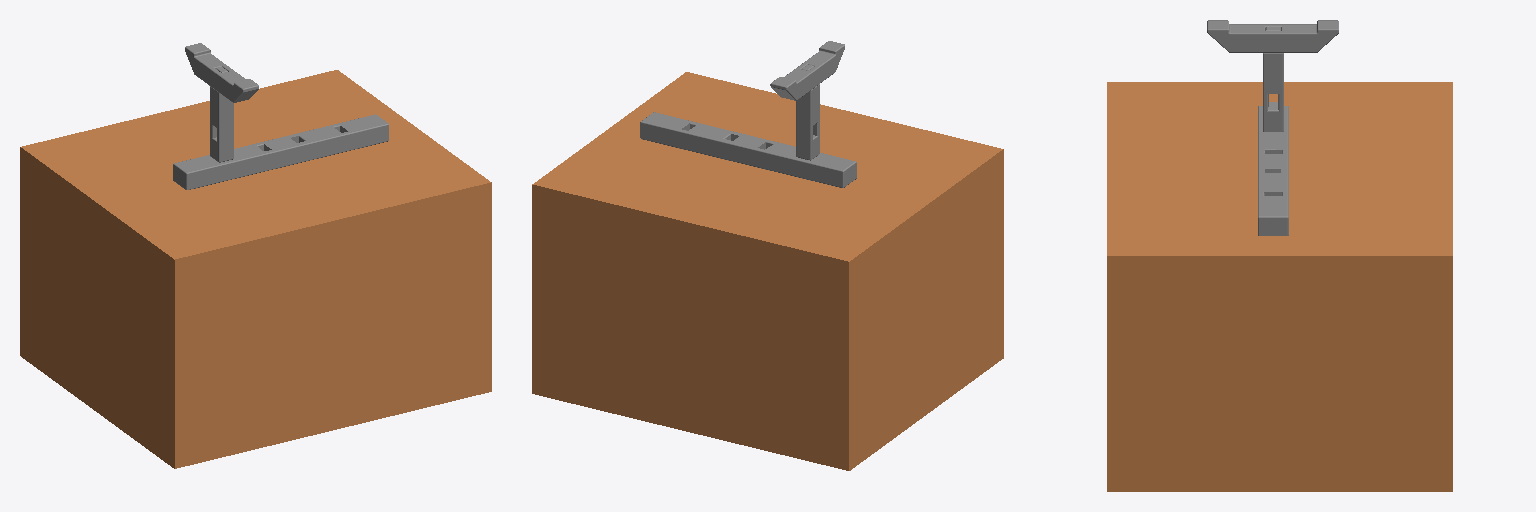
URDF robot description (table_beam_2x_3_scene_0016):
<?xml version="1.0"?>
<robot name="table_beam_2x_3_scene_0016">
  <link name="box">
    <visual>
      <material name="wood"><color rgba="0.82 0.56 0.35 1.0"/></material>
      <origin xyz="0 0 0"/>
      <geometry><box size="0.475 0.4 0.3"/></geometry>
    </visual>
    <collision>
      <origin xyz="0 0 0"/>
      <geometry><box size="0.475 0.4 0.3"/></geometry>
    </collision>
    <inertial>
      <mass value="500"/>
      <friction value="1.0"/>
      <inertia ixx="1000.0" ixy="0.0" ixz="0.0" iyy="1000.0" iyz="0.0" izz="1000.0"/>
    </inertial>
  </link>
  <link name="part_6_hull_0">
    <visual>
      <origin xyz="0 0 0" rpy="0 0 0"/>
      <geometry><mesh filename="../../6/coacd/decomp_0.obj" scale="1 1 1"/></geometry>
      <material name="placed_0"><color rgba="0.6 0.6 0.6 1.0"/></material>
    </visual>
    <collision>
      <origin xyz="0 0 0" rpy="0 0 0"/>
      <geometry><mesh filename="../../6/coacd/decomp_0.obj" scale="1 1 1"/></geometry>
    </collision>
  </link>
  <joint name="part_6_hull_0_joint" type="fixed">
    <parent link="box"/>
    <child link="part_6_hull_0"/>
    <origin xyz="0.033547 -0.007690 0.162666" rpy="0.000000 0.000000 0.000000"/>
  </joint>
  <link name="part_6_hull_1">
    <visual>
      <origin xyz="0 0 0" rpy="0 0 0"/>
      <geometry><mesh filename="../../6/coacd/decomp_1.obj" scale="1 1 1"/></geometry>
      <material name="placed_1"><color rgba="0.6 0.6 0.6 1.0"/></material>
    </visual>
    <collision>
      <origin xyz="0 0 0" rpy="0 0 0"/>
      <geometry><mesh filename="../../6/coacd/decomp_1.obj" scale="1 1 1"/></geometry>
    </collision>
  </link>
  <joint name="part_6_hull_1_joint" type="fixed">
    <parent link="box"/>
    <child link="part_6_hull_1"/>
    <origin xyz="0.033547 -0.007690 0.162666" rpy="0.000000 0.000000 0.000000"/>
  </joint>
  <link name="part_6_hull_2">
    <visual>
      <origin xyz="0 0 0" rpy="0 0 0"/>
      <geometry><mesh filename="../../6/coacd/decomp_10.obj" scale="1 1 1"/></geometry>
      <material name="placed_2"><color rgba="0.6 0.6 0.6 1.0"/></material>
    </visual>
    <collision>
      <origin xyz="0 0 0" rpy="0 0 0"/>
      <geometry><mesh filename="../../6/coacd/decomp_10.obj" scale="1 1 1"/></geometry>
    </collision>
  </link>
  <joint name="part_6_hull_2_joint" type="fixed">
    <parent link="box"/>
    <child link="part_6_hull_2"/>
    <origin xyz="0.033547 -0.007690 0.162666" rpy="0.000000 0.000000 0.000000"/>
  </joint>
  <link name="part_6_hull_3">
    <visual>
      <origin xyz="0 0 0" rpy="0 0 0"/>
      <geometry><mesh filename="../../6/coacd/decomp_11.obj" scale="1 1 1"/></geometry>
      <material name="placed_3"><color rgba="0.6 0.6 0.6 1.0"/></material>
    </visual>
    <collision>
      <origin xyz="0 0 0" rpy="0 0 0"/>
      <geometry><mesh filename="../../6/coacd/decomp_11.obj" scale="1 1 1"/></geometry>
    </collision>
  </link>
  <joint name="part_6_hull_3_joint" type="fixed">
    <parent link="box"/>
    <child link="part_6_hull_3"/>
    <origin xyz="0.033547 -0.007690 0.162666" rpy="0.000000 0.000000 0.000000"/>
  </joint>
  <link name="part_6_hull_4">
    <visual>
      <origin xyz="0 0 0" rpy="0 0 0"/>
      <geometry><mesh filename="../../6/coacd/decomp_12.obj" scale="1 1 1"/></geometry>
      <material name="placed_4"><color rgba="0.6 0.6 0.6 1.0"/></material>
    </visual>
    <collision>
      <origin xyz="0 0 0" rpy="0 0 0"/>
      <geometry><mesh filename="../../6/coacd/decomp_12.obj" scale="1 1 1"/></geometry>
    </collision>
  </link>
  <joint name="part_6_hull_4_joint" type="fixed">
    <parent link="box"/>
    <child link="part_6_hull_4"/>
    <origin xyz="0.033547 -0.007690 0.162666" rpy="0.000000 0.000000 0.000000"/>
  </joint>
  <link name="part_6_hull_5">
    <visual>
      <origin xyz="0 0 0" rpy="0 0 0"/>
      <geometry><mesh filename="../../6/coacd/decomp_13.obj" scale="1 1 1"/></geometry>
      <material name="placed_5"><color rgba="0.6 0.6 0.6 1.0"/></material>
    </visual>
    <collision>
      <origin xyz="0 0 0" rpy="0 0 0"/>
      <geometry><mesh filename="../../6/coacd/decomp_13.obj" scale="1 1 1"/></geometry>
    </collision>
  </link>
  <joint name="part_6_hull_5_joint" type="fixed">
    <parent link="box"/>
    <child link="part_6_hull_5"/>
    <origin xyz="0.033547 -0.007690 0.162666" rpy="0.000000 0.000000 0.000000"/>
  </joint>
  <link name="part_6_hull_6">
    <visual>
      <origin xyz="0 0 0" rpy="0 0 0"/>
      <geometry><mesh filename="../../6/coacd/decomp_2.obj" scale="1 1 1"/></geometry>
      <material name="placed_6"><color rgba="0.6 0.6 0.6 1.0"/></material>
    </visual>
    <collision>
      <origin xyz="0 0 0" rpy="0 0 0"/>
      <geometry><mesh filename="../../6/coacd/decomp_2.obj" scale="1 1 1"/></geometry>
    </collision>
  </link>
  <joint name="part_6_hull_6_joint" type="fixed">
    <parent link="box"/>
    <child link="part_6_hull_6"/>
    <origin xyz="0.033547 -0.007690 0.162666" rpy="0.000000 0.000000 0.000000"/>
  </joint>
  <link name="part_6_hull_7">
    <visual>
      <origin xyz="0 0 0" rpy="0 0 0"/>
      <geometry><mesh filename="../../6/coacd/decomp_3.obj" scale="1 1 1"/></geometry>
      <material name="placed_7"><color rgba="0.6 0.6 0.6 1.0"/></material>
    </visual>
    <collision>
      <origin xyz="0 0 0" rpy="0 0 0"/>
      <geometry><mesh filename="../../6/coacd/decomp_3.obj" scale="1 1 1"/></geometry>
    </collision>
  </link>
  <joint name="part_6_hull_7_joint" type="fixed">
    <parent link="box"/>
    <child link="part_6_hull_7"/>
    <origin xyz="0.033547 -0.007690 0.162666" rpy="0.000000 0.000000 0.000000"/>
  </joint>
  <link name="part_6_hull_8">
    <visual>
      <origin xyz="0 0 0" rpy="0 0 0"/>
      <geometry><mesh filename="../../6/coacd/decomp_4.obj" scale="1 1 1"/></geometry>
      <material name="placed_8"><color rgba="0.6 0.6 0.6 1.0"/></material>
    </visual>
    <collision>
      <origin xyz="0 0 0" rpy="0 0 0"/>
      <geometry><mesh filename="../../6/coacd/decomp_4.obj" scale="1 1 1"/></geometry>
    </collision>
  </link>
  <joint name="part_6_hull_8_joint" type="fixed">
    <parent link="box"/>
    <child link="part_6_hull_8"/>
    <origin xyz="0.033547 -0.007690 0.162666" rpy="0.000000 0.000000 0.000000"/>
  </joint>
  <link name="part_6_hull_9">
    <visual>
      <origin xyz="0 0 0" rpy="0 0 0"/>
      <geometry><mesh filename="../../6/coacd/decomp_5.obj" scale="1 1 1"/></geometry>
      <material name="placed_9"><color rgba="0.6 0.6 0.6 1.0"/></material>
    </visual>
    <collision>
      <origin xyz="0 0 0" rpy="0 0 0"/>
      <geometry><mesh filename="../../6/coacd/decomp_5.obj" scale="1 1 1"/></geometry>
    </collision>
  </link>
  <joint name="part_6_hull_9_joint" type="fixed">
    <parent link="box"/>
    <child link="part_6_hull_9"/>
    <origin xyz="0.033547 -0.007690 0.162666" rpy="0.000000 0.000000 0.000000"/>
  </joint>
  <link name="part_6_hull_10">
    <visual>
      <origin xyz="0 0 0" rpy="0 0 0"/>
      <geometry><mesh filename="../../6/coacd/decomp_6.obj" scale="1 1 1"/></geometry>
      <material name="placed_10"><color rgba="0.6 0.6 0.6 1.0"/></material>
    </visual>
    <collision>
      <origin xyz="0 0 0" rpy="0 0 0"/>
      <geometry><mesh filename="../../6/coacd/decomp_6.obj" scale="1 1 1"/></geometry>
    </collision>
  </link>
  <joint name="part_6_hull_10_joint" type="fixed">
    <parent link="box"/>
    <child link="part_6_hull_10"/>
    <origin xyz="0.033547 -0.007690 0.162666" rpy="0.000000 0.000000 0.000000"/>
  </joint>
  <link name="part_6_hull_11">
    <visual>
      <origin xyz="0 0 0" rpy="0 0 0"/>
      <geometry><mesh filename="../../6/coacd/decomp_7.obj" scale="1 1 1"/></geometry>
      <material name="placed_11"><color rgba="0.6 0.6 0.6 1.0"/></material>
    </visual>
    <collision>
      <origin xyz="0 0 0" rpy="0 0 0"/>
      <geometry><mesh filename="../../6/coacd/decomp_7.obj" scale="1 1 1"/></geometry>
    </collision>
  </link>
  <joint name="part_6_hull_11_joint" type="fixed">
    <parent link="box"/>
    <child link="part_6_hull_11"/>
    <origin xyz="0.033547 -0.007690 0.162666" rpy="0.000000 0.000000 0.000000"/>
  </joint>
  <link name="part_6_hull_12">
    <visual>
      <origin xyz="0 0 0" rpy="0 0 0"/>
      <geometry><mesh filename="../../6/coacd/decomp_8.obj" scale="1 1 1"/></geometry>
      <material name="placed_12"><color rgba="0.6 0.6 0.6 1.0"/></material>
    </visual>
    <collision>
      <origin xyz="0 0 0" rpy="0 0 0"/>
      <geometry><mesh filename="../../6/coacd/decomp_8.obj" scale="1 1 1"/></geometry>
    </collision>
  </link>
  <joint name="part_6_hull_12_joint" type="fixed">
    <parent link="box"/>
    <child link="part_6_hull_12"/>
    <origin xyz="0.033547 -0.007690 0.162666" rpy="0.000000 0.000000 0.000000"/>
  </joint>
  <link name="part_6_hull_13">
    <visual>
      <origin xyz="0 0 0" rpy="0 0 0"/>
      <geometry><mesh filename="../../6/coacd/decomp_9.obj" scale="1 1 1"/></geometry>
      <material name="placed_13"><color rgba="0.6 0.6 0.6 1.0"/></material>
    </visual>
    <collision>
      <origin xyz="0 0 0" rpy="0 0 0"/>
      <geometry><mesh filename="../../6/coacd/decomp_9.obj" scale="1 1 1"/></geometry>
    </collision>
  </link>
  <joint name="part_6_hull_13_joint" type="fixed">
    <parent link="box"/>
    <child link="part_6_hull_13"/>
    <origin xyz="0.033547 -0.007690 0.162666" rpy="0.000000 0.000000 0.000000"/>
  </joint>
  <link name="part_2_canonical">
    <visual>
      <origin xyz="0 0 0" rpy="0 0 0"/>
      <geometry><mesh filename="../../2/2_canonical.obj" scale="1 1 1"/></geometry>
      <material name="placed_14"><color rgba="0.6 0.6 0.6 1.0"/></material>
    </visual>
    <collision>
      <origin xyz="0 0 0" rpy="0 0 0"/>
      <geometry><mesh filename="../../2/2_canonical.obj" scale="1 1 1"/></geometry>
    </collision>
  </link>
  <joint name="part_2_canonical_joint" type="fixed">
    <parent link="box"/>
    <child link="part_2_canonical"/>
    <origin xyz="-0.055380 -0.007690 0.225384" rpy="0.000000 -1.570796 0.000000"/>
  </joint>
  <link name="part_0_canonical">
    <visual>
      <origin xyz="0 0 0" rpy="0 0 0"/>
      <geometry><mesh filename="../../0/0_canonical.obj" scale="1 1 1"/></geometry>
      <material name="placed_15"><color rgba="0.6 0.6 0.6 1.0"/></material>
    </visual>
    <collision>
      <origin xyz="0 0 0" rpy="0 0 0"/>
      <geometry><mesh filename="../../0/0_canonical.obj" scale="1 1 1"/></geometry>
    </collision>
  </link>
  <joint name="part_0_canonical_joint" type="fixed">
    <parent link="box"/>
    <child link="part_0_canonical"/>
    <origin xyz="-0.055353 -0.007690 0.292243" rpy="1.570796 0.000000 -1.570796"/>
  </joint>
</robot>

--- What the picture shows (computed from the rendered views, not written in the file) ---
The picture shows the robot from 3 angles, left to right: view 1: azimuth 30°, elevation 25°; view 2: azimuth 150°, elevation 25°; view 3: azimuth 270°, elevation 25°; orthographic projection.
Model table_beam_2x_3_scene_0016 with 17 links and 16 joints (16 fixed), rooted at box, posed all joints at 0.
Visible links, largest first — view 1: box, part_0_canonical, part_2_canonical, part_6_hull_1, part_6_hull_0, part_6_hull_9, part_6_hull_5, part_6_hull_3; view 2: box, part_0_canonical, part_2_canonical, part_6_hull_1, part_6_hull_0, part_6_hull_2, part_6_hull_5, part_6_hull_12; view 3: box, part_0_canonical, part_2_canonical, part_6_hull_0, part_6_hull_5.
Link boxes in pixels (x1=…): box: x1=20, y1=70, x2=491, y2=468; part_0_canonical: x1=185, y1=43, x2=258, y2=102; part_2_canonical: x1=210, y1=67, x2=233, y2=162; part_6_hull_1: x1=173, y1=155, x2=224, y2=189; part_6_hull_0: x1=338, y1=114, x2=388, y2=149; part_6_hull_9: x1=223, y1=150, x2=274, y2=180; part_6_hull_5: x1=305, y1=125, x2=343, y2=158; part_6_hull_3: x1=275, y1=139, x2=316, y2=167; box: x1=532, y1=72, x2=1003, y2=470; part_0_canonical: x1=770, y1=41, x2=844, y2=100; part_2_canonical: x1=796, y1=65, x2=819, y2=160; part_6_hull_1: x1=805, y1=153, x2=856, y2=187; part_6_hull_0: x1=640, y1=112, x2=691, y2=147; part_6_hull_2: x1=762, y1=144, x2=799, y2=176; part_6_hull_5: x1=686, y1=123, x2=724, y2=156; part_6_hull_12: x1=713, y1=137, x2=753, y2=165; box: x1=1107, y1=82, x2=1452, y2=491; part_0_canonical: x1=1207, y1=20, x2=1338, y2=52; part_2_canonical: x1=1263, y1=27, x2=1283, y2=131; part_6_hull_0: x1=1258, y1=196, x2=1288, y2=235; part_6_hull_5: x1=1258, y1=177, x2=1288, y2=195.
Size in the robot's own frame: 0.475 by 0.4 by 0.4575 metres.
16 mesh visuals loaded from 16 distinct referenced files (16 OBJ).
